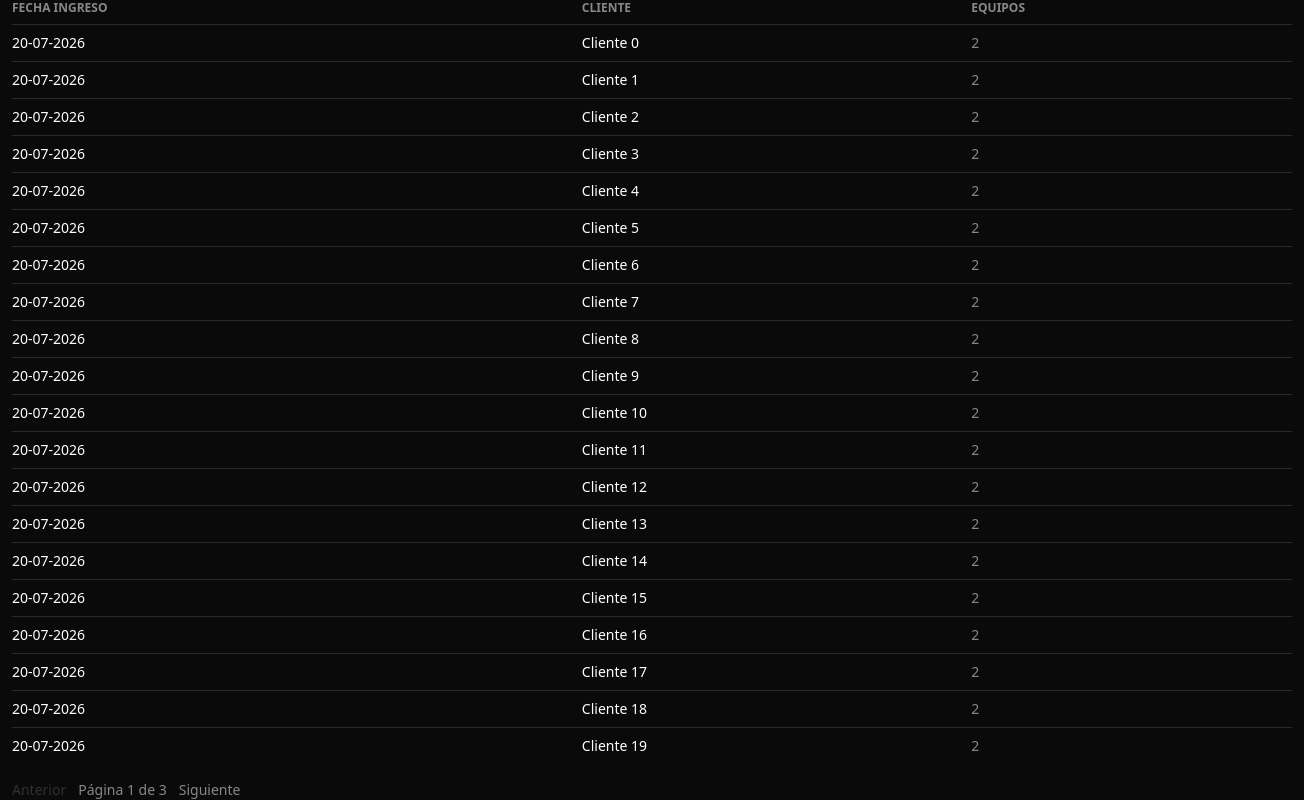
Test: OrdersPage › paginado: "Anterior" deshabilitado en la primera página, "Siguiente" navega a offset 20
(page scrolled)
expect the link "Cliente 0" is shown: met, box 582,33 -> 639,52
expect the button "Anterior" is disabled: met, box 12,780 -> 66,799
Click the button "Siguiente": {"x": 210, "y": 790} 179,780 -> 240,799
(page scrolled)
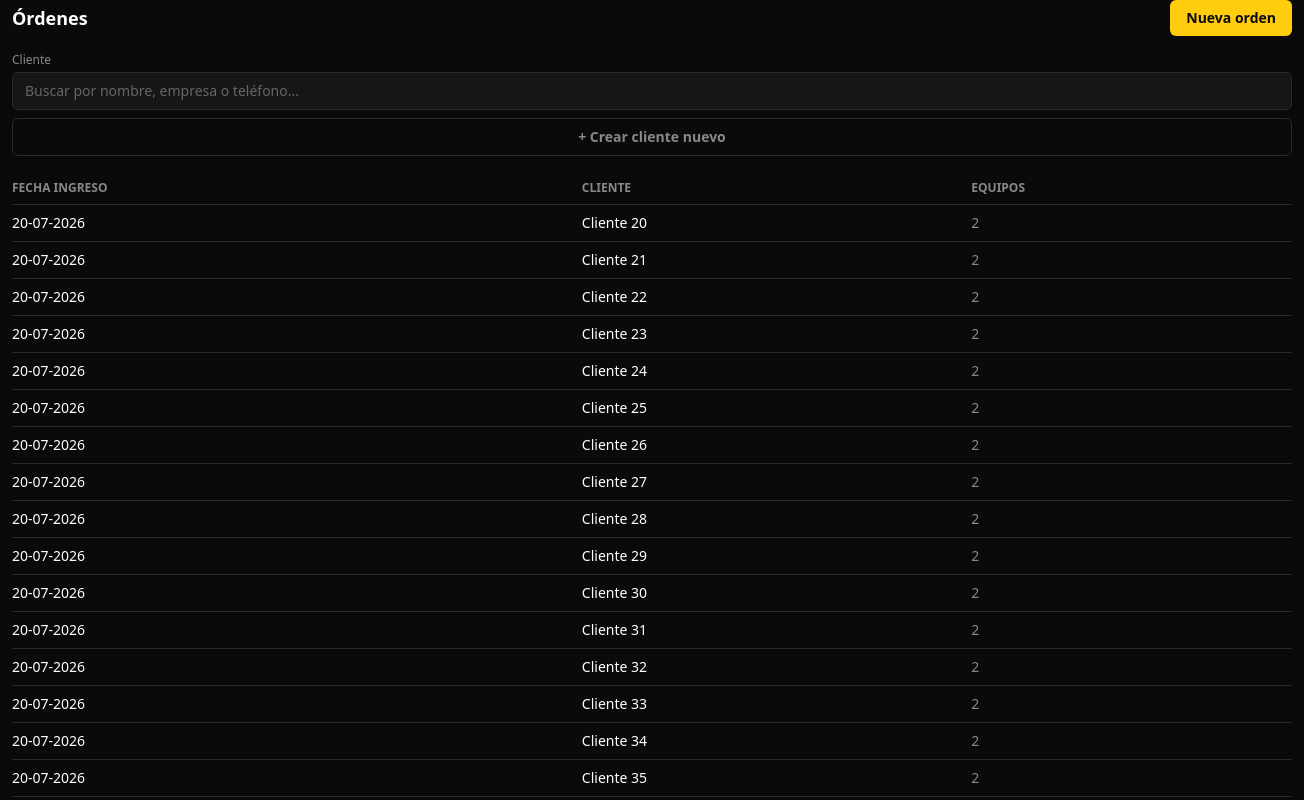
expect the link "Cliente 20" is shown: met, box 582,213 -> 647,232
